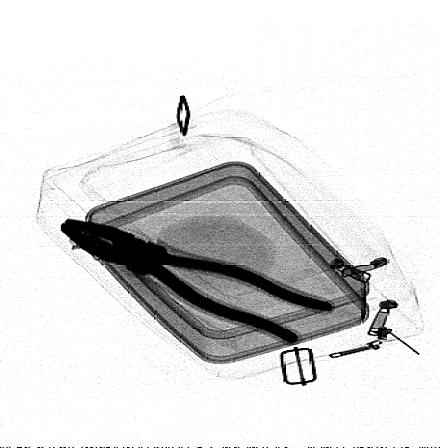Pliers: (59, 220, 337, 345)
